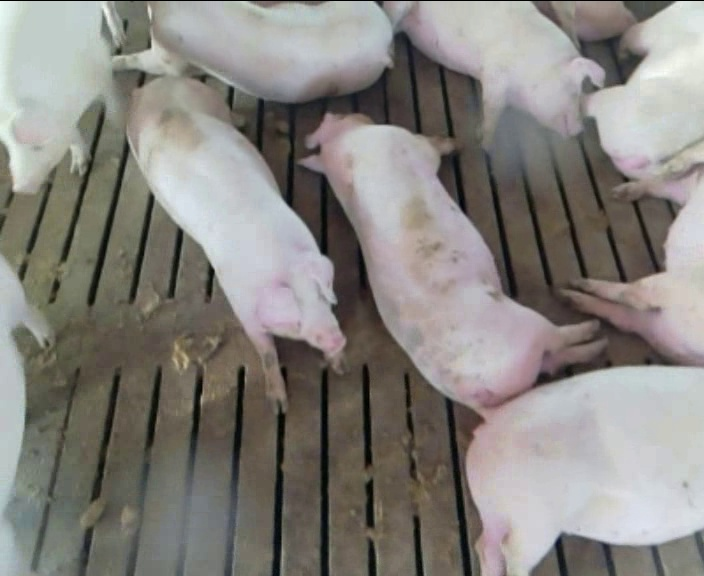pig: (301, 114, 605, 410), (127, 78, 345, 409), (467, 366, 703, 574), (383, 3, 604, 148), (562, 139, 703, 364), (111, 2, 392, 102)
